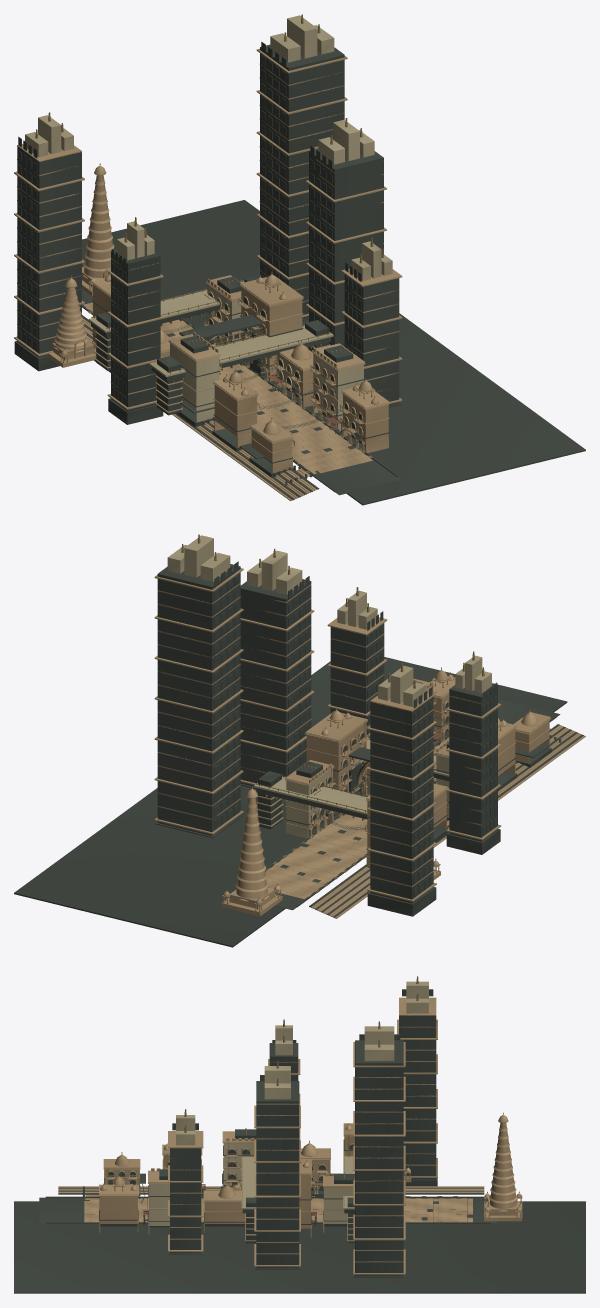
File: street-core.glb
3 views of the same model, one above another, from view 1: azimuth 30°, elevation 25°; view 2: azimuth 150°, elevation 25°; view 3: azimuth 270°, elevation 25° (orthographic). The views are drawn at different scales.
Visible parts, largest first — view 1: correction-dark, correction-sand, correction-plaster, correction-bronze; view 2: correction-dark, correction-sand, correction-plaster, correction-bronze; view 3: correction-dark, correction-sand, correction-plaster, correction-bronze.
Boxes of the visible parts, left/top/right/bottom form: correction-dark: left=14, top=41, right=585, bottom=505; correction-sand: left=14, top=48, right=402, bottom=500; correction-plaster: left=25, top=15, right=392, bottom=444; correction-bronze: left=35, top=14, right=383, bottom=473; correction-dark: left=14, top=561, right=583, bottom=947; correction-sand: left=154, top=568, right=585, bottom=918; correction-plaster: left=167, top=535, right=491, bottom=838; correction-bronze: left=181, top=534, right=530, bottom=911; correction-dark: left=14, top=989, right=585, bottom=1293; correction-sand: left=58, top=997, right=522, bottom=1274; correction-plaster: left=107, top=981, right=428, bottom=1234; correction-bronze: left=88, top=976, right=521, bottom=1222.
Size of the model in its own units: 97.1 by 88.1 by 180.
